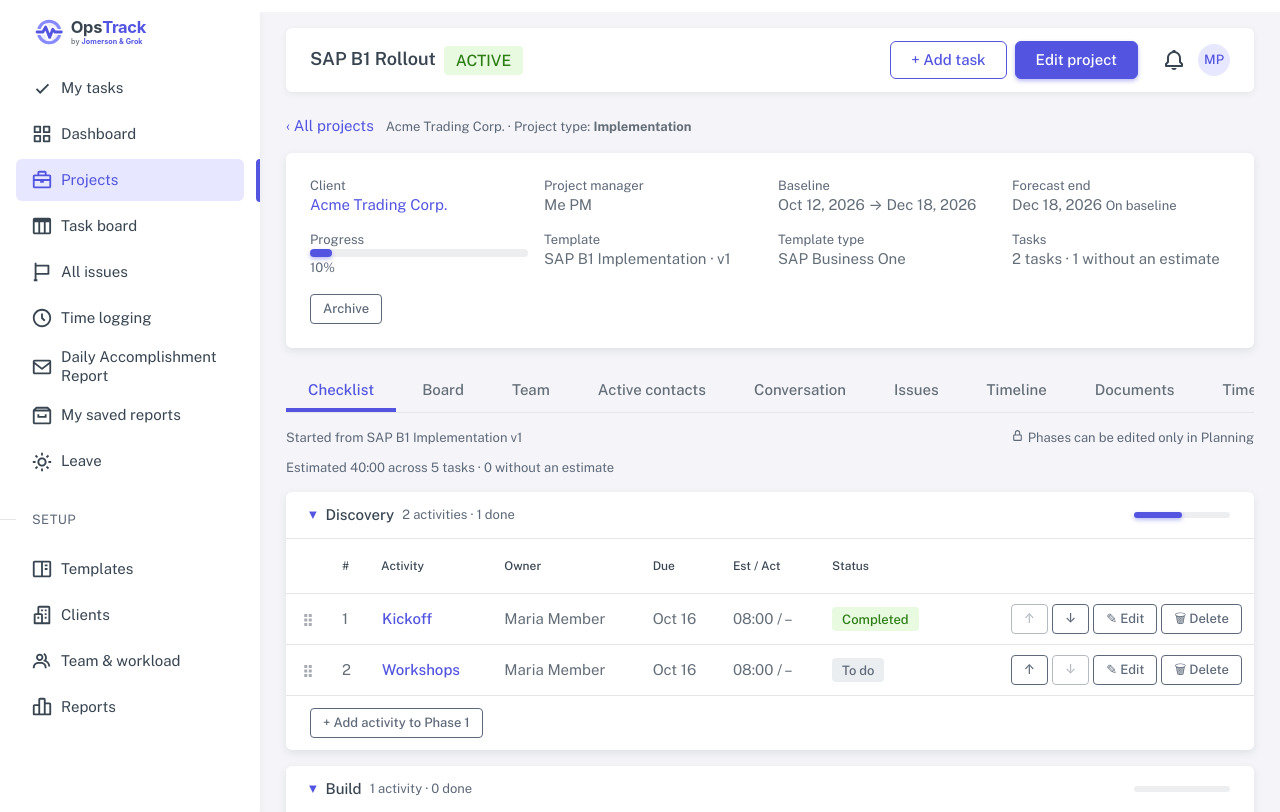
Test: Project Checklist (FR-PRJ-14..16) › clicking anywhere on a phase header, or Enter / Space on it, opens and closes the phase
Expected: the button "▸ Discovery 2 activities · 1 done" is shown, [306,506,1230,523]
Expected: the button "▸ Build 1 activity · 0 done" is shown, [306,780,1230,797]
Click the text "2 activities · 1 done" at (459, 515), box [402,506,515,524]
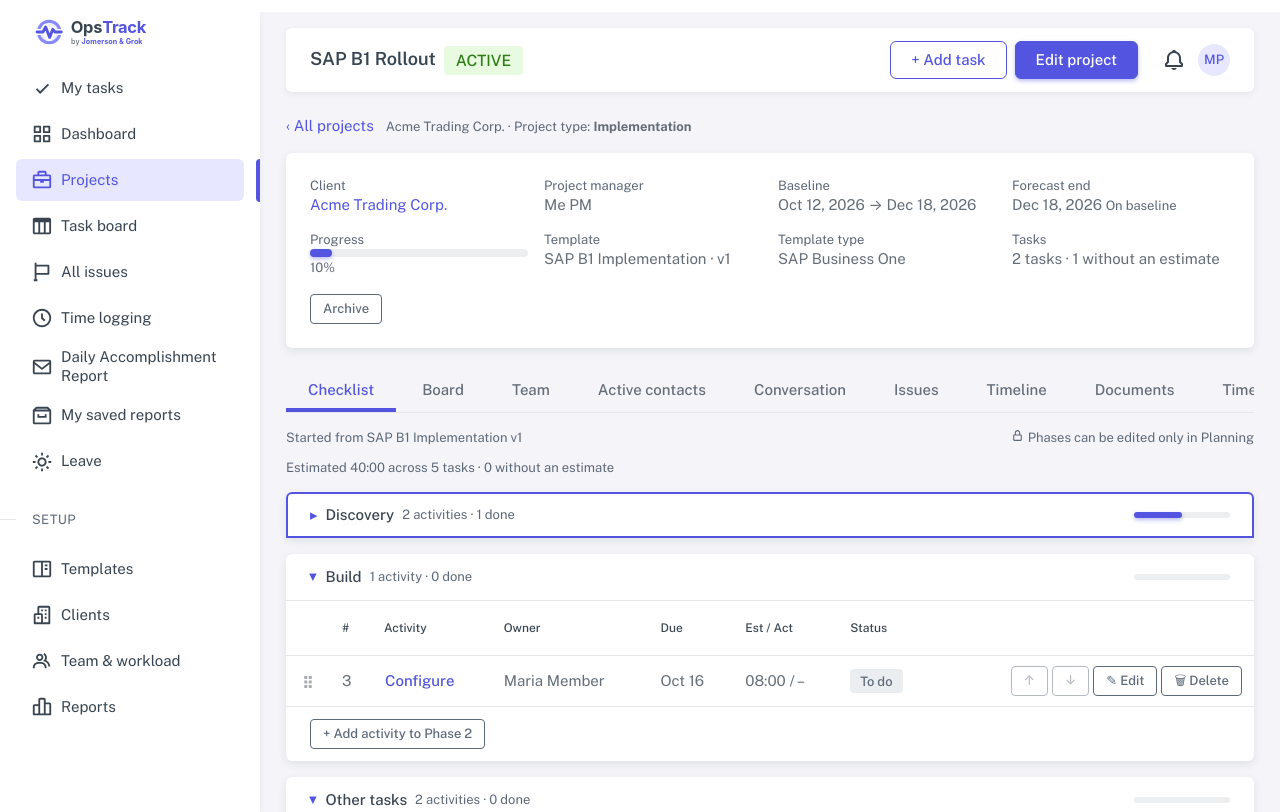
Expected: the button "▸ Discovery 2 activities · 1 done" is collapsed, [310,506,1230,523]
Expected: the button "Kickoff" is gone
Press Enter
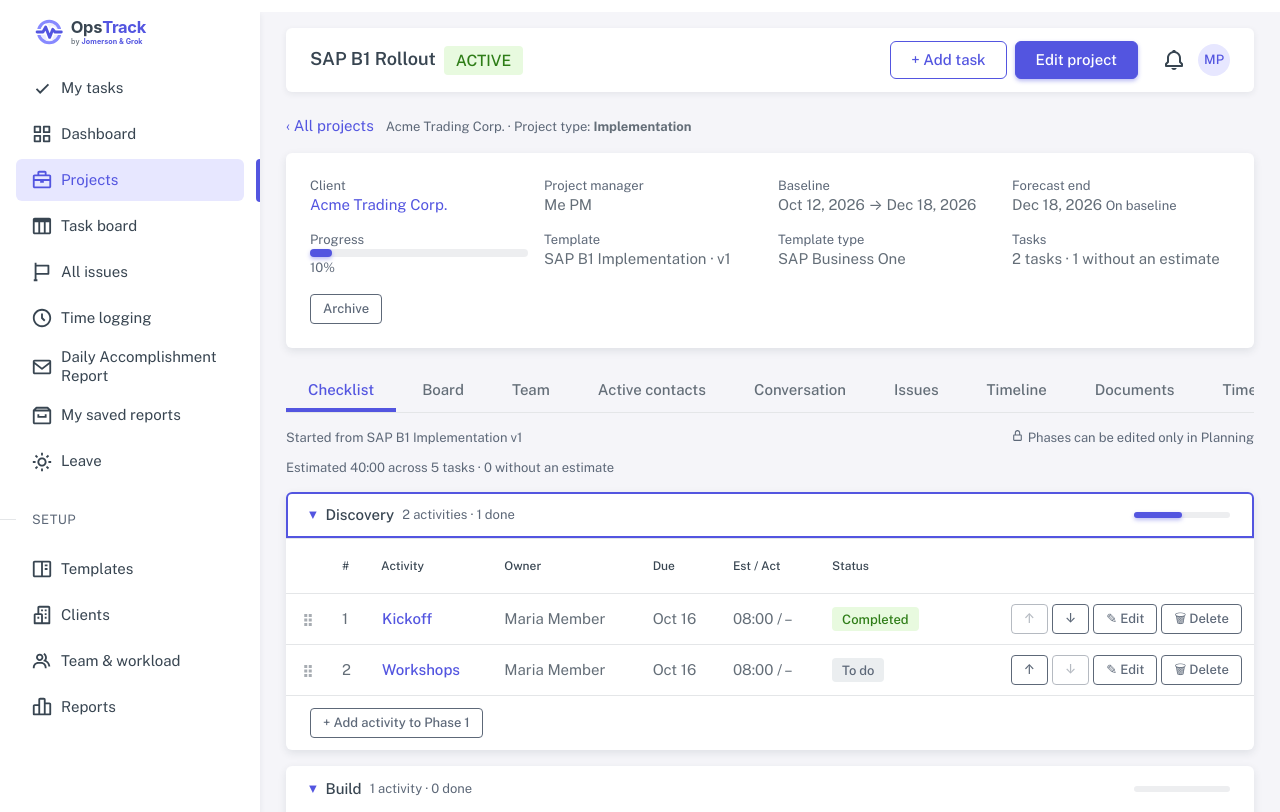
Expected: the button "▸ Discovery 2 activities · 1 done" is expanded, [306,506,1230,523]
Expected: the button "Kickoff" is shown, [381,608,433,630]
Type keys " "
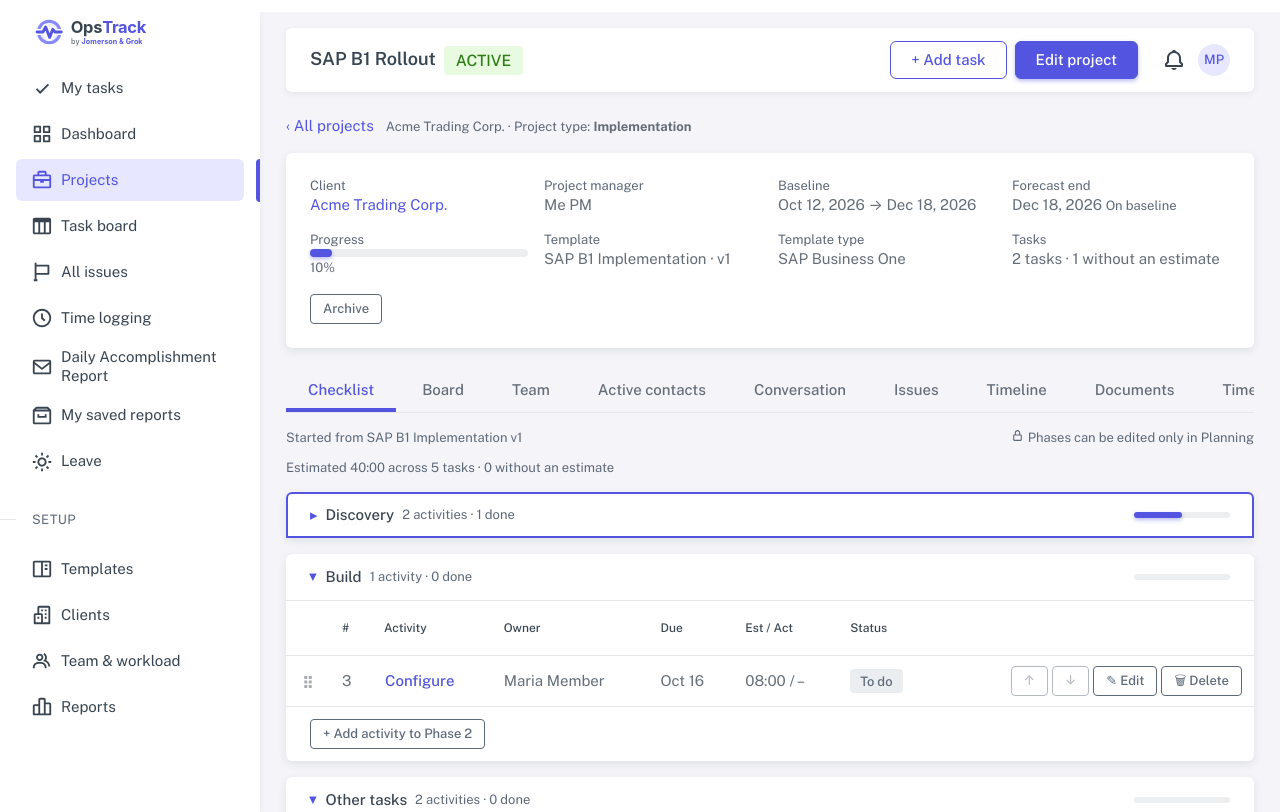
Expected: the button "▸ Discovery 2 activities · 1 done" is collapsed, [310,506,1230,523]
